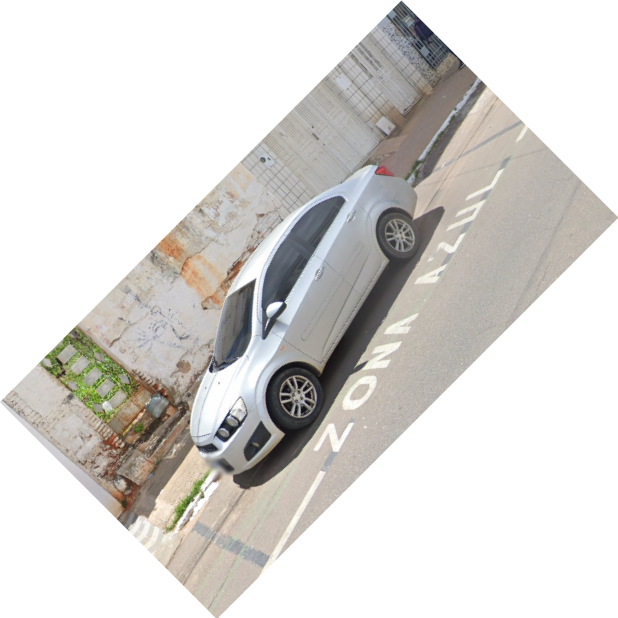car: (186, 158, 422, 488)
